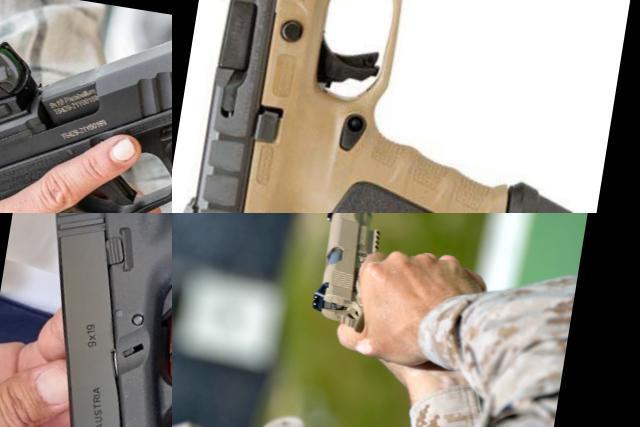handgun: (172, 0, 635, 213), (0, 213, 172, 427), (0, 0, 172, 213), (305, 213, 406, 341)
